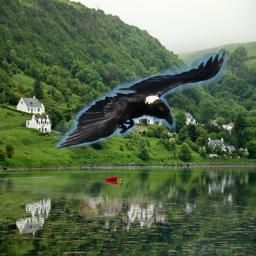Crow: (54, 49, 227, 149)
